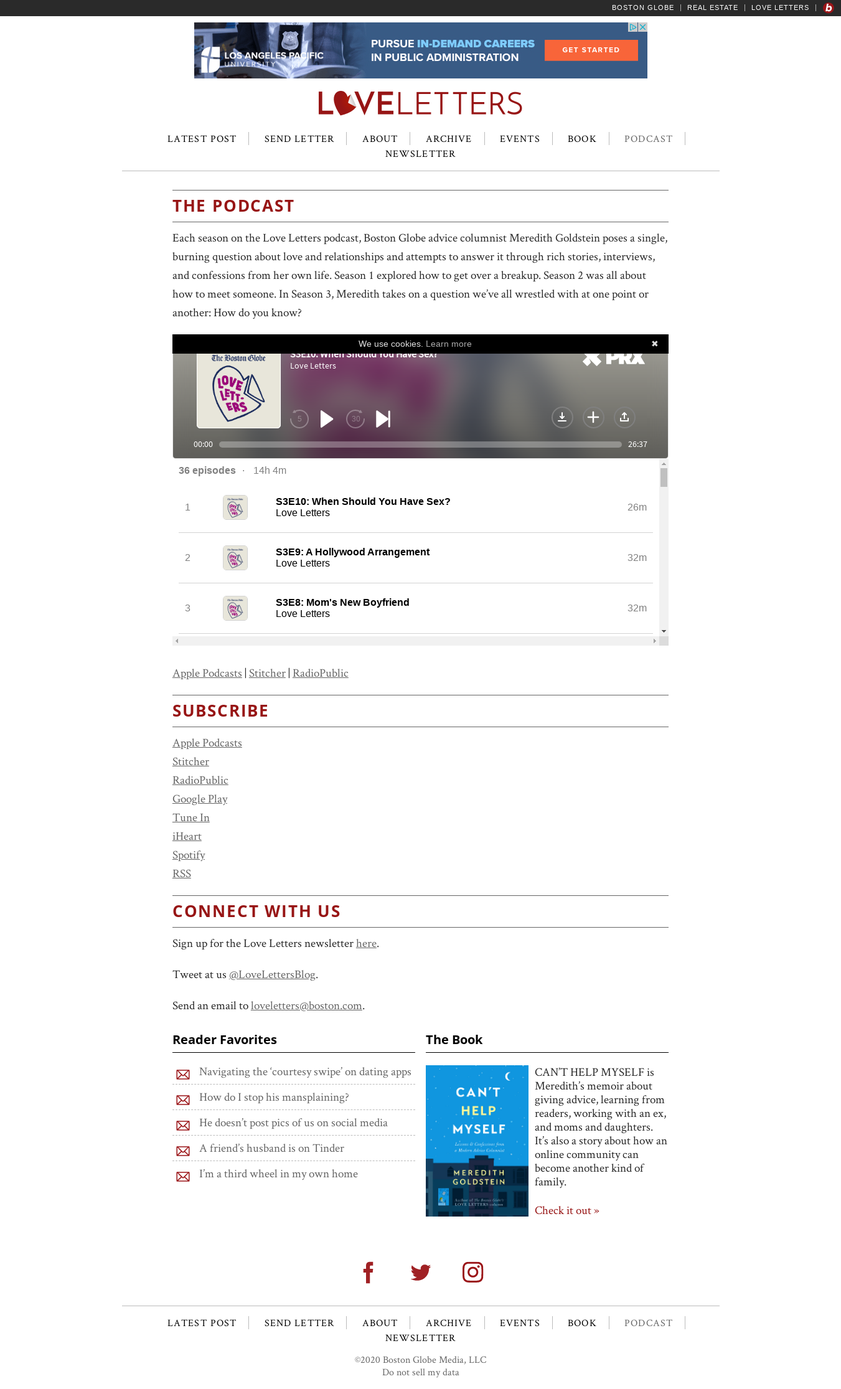fake_button: (540, 34, 643, 71)
